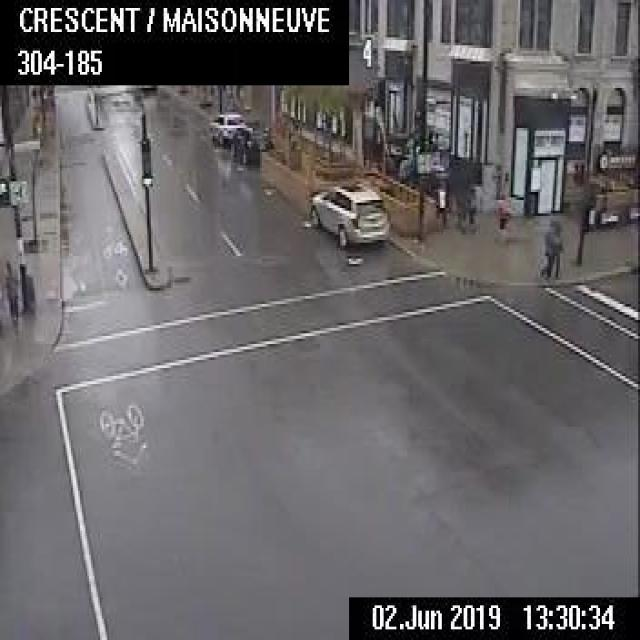pedestrian: (2, 255, 18, 323), (492, 190, 509, 244), (458, 176, 475, 229), (538, 218, 553, 277), (549, 221, 563, 277), (433, 176, 449, 224)
vehicle: (309, 173, 395, 248), (231, 125, 274, 162), (208, 110, 252, 143)
